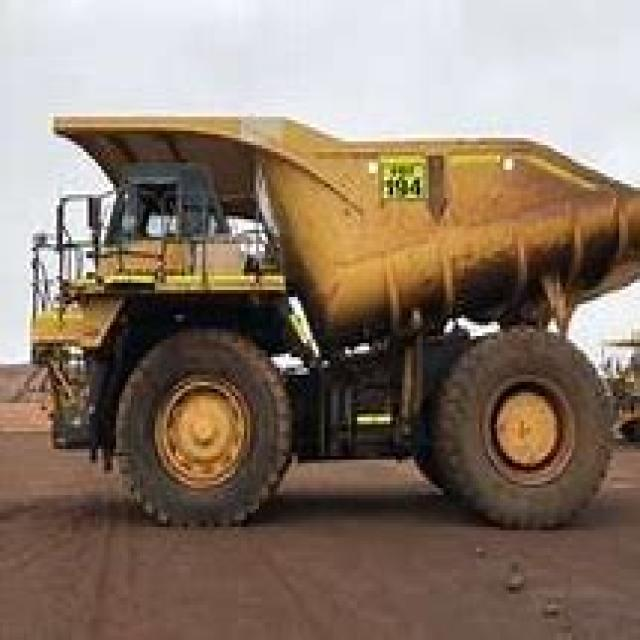dump_truck: (15, 78, 637, 527)
